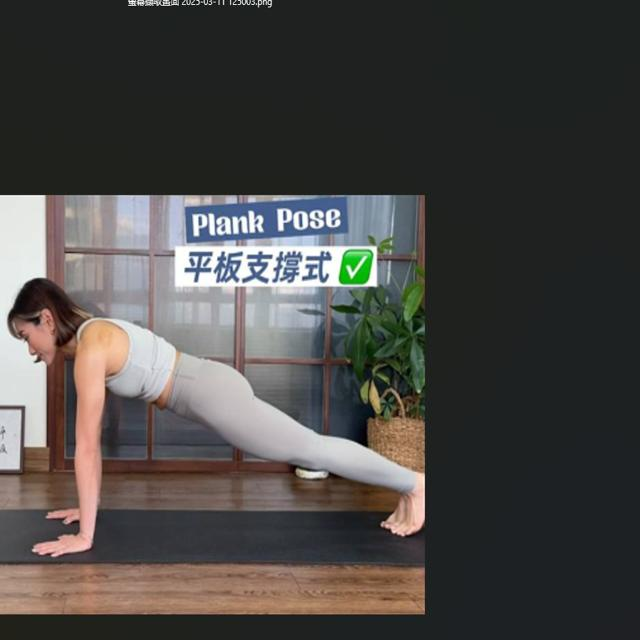Plank_Pose: (10, 279, 430, 573)
